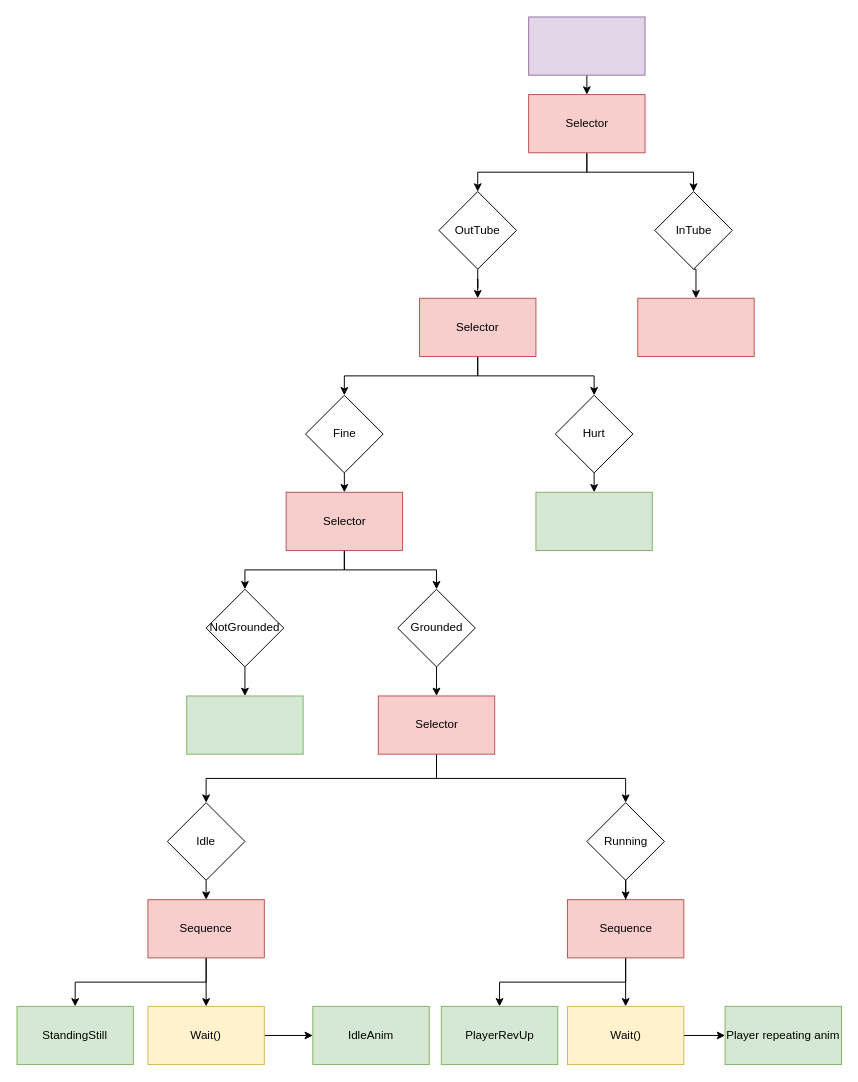
Image size: 858x1082. Some labels were removed from this diagram. The centre of each missing label's shape, as x and y in pixels:
JumpAnim: the point at 244,724
KnockBackAnim: the point at 593,520
PlayInTubeAnim: the point at 695,326
Root: the point at 586,45
